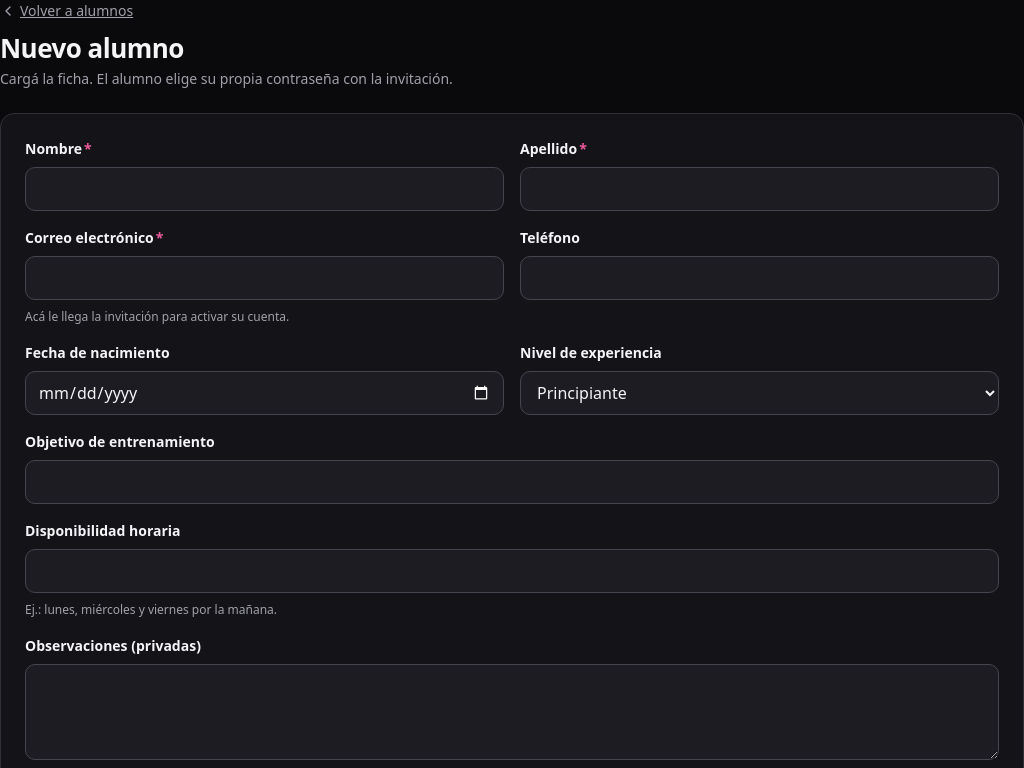
alta de alumno › envía datos limpios (sin fecha vacía) y confirma el alta
Step 1. Type "  Nuevo " into the field labelled "Nombre*" → (264, 189), box [25,167,504,211]
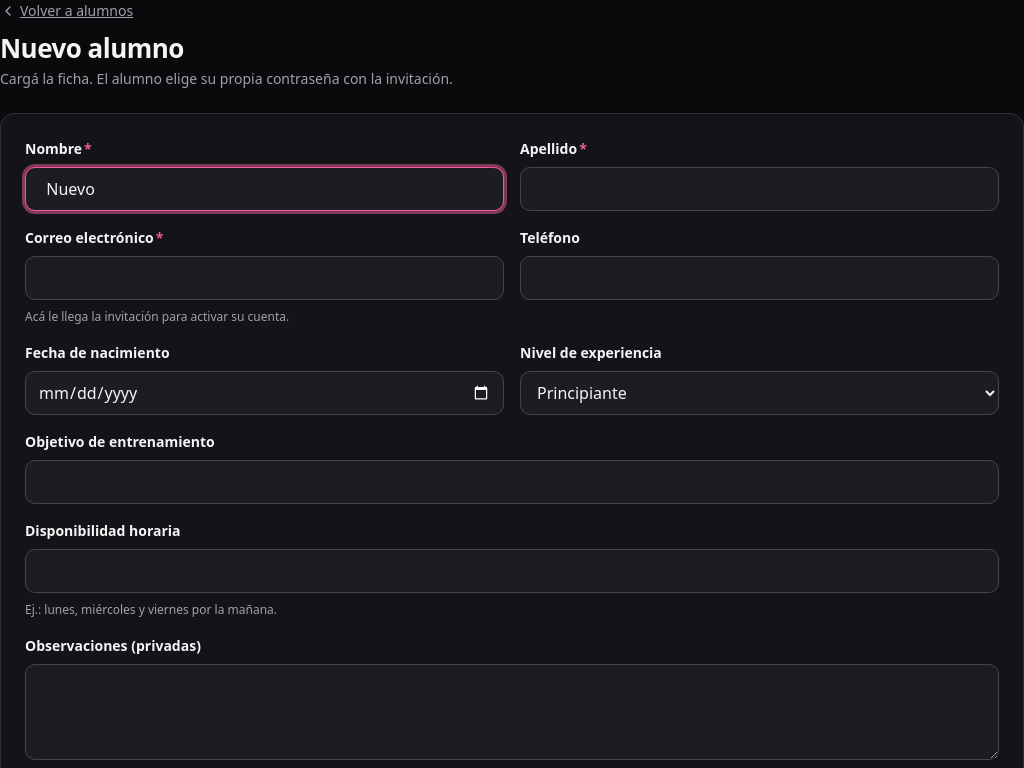
Step 2. Type "Alumno" into the field labelled "Apellido*" → (760, 189), box [520,167,999,211]
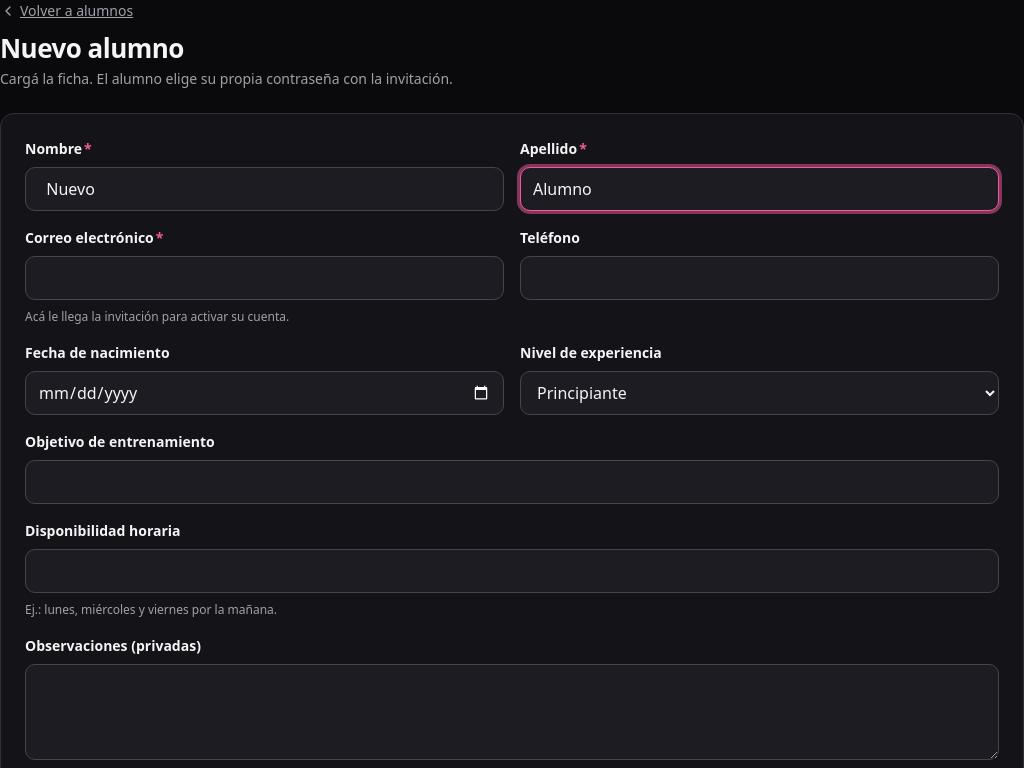
Step 3. Type "nuevo@test.com" into the field labelled "Correo electrónico*" → (264, 278), box [25,256,504,300]
(page scrolled)
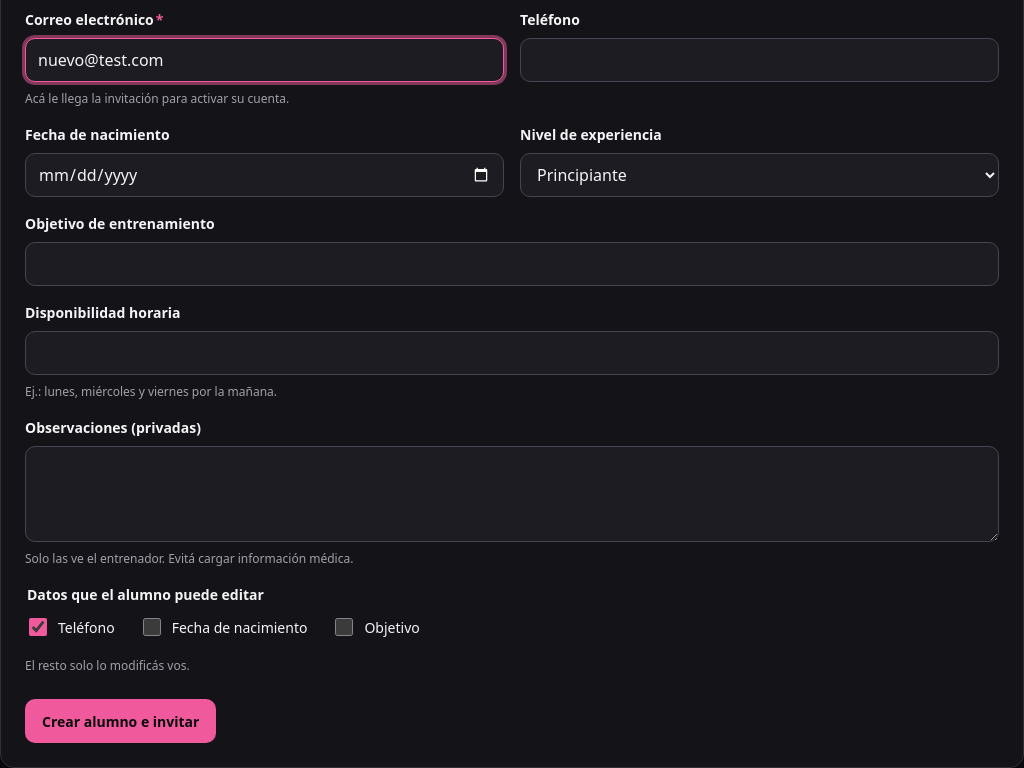
Step 4. Click the button "Crear alumno e invitar" → (121, 721), box [25,699,216,743]
(page scrolled)
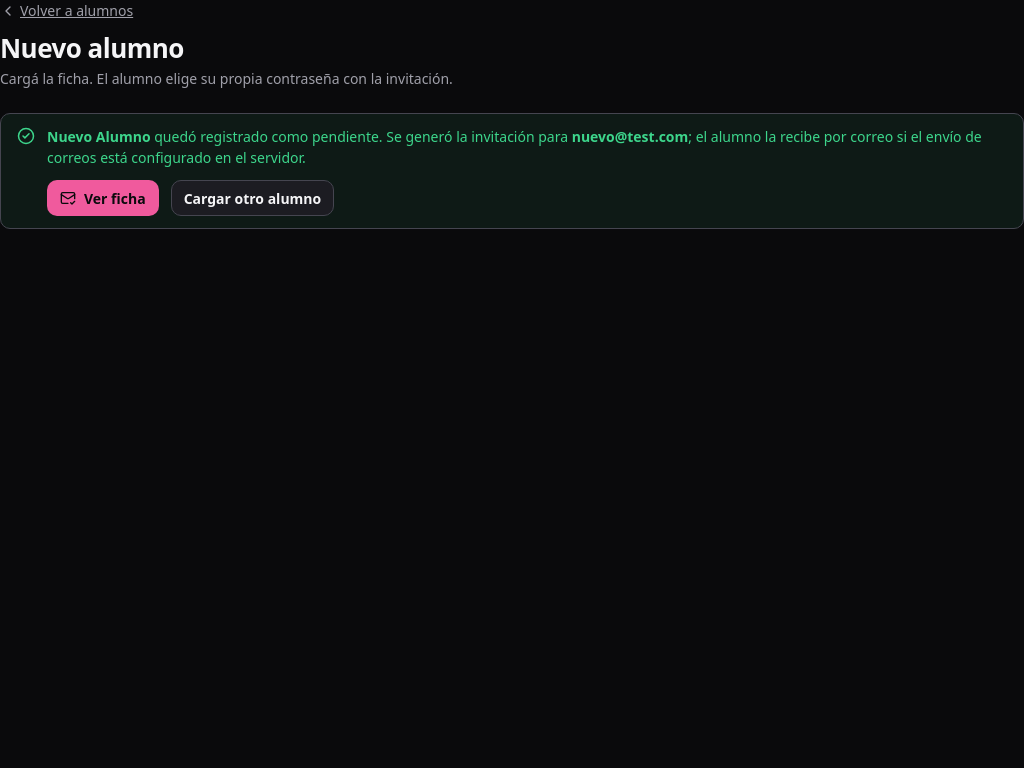
expect the text "quedó registrado como pendiente" is shown: met, box [151,127,572,146]
